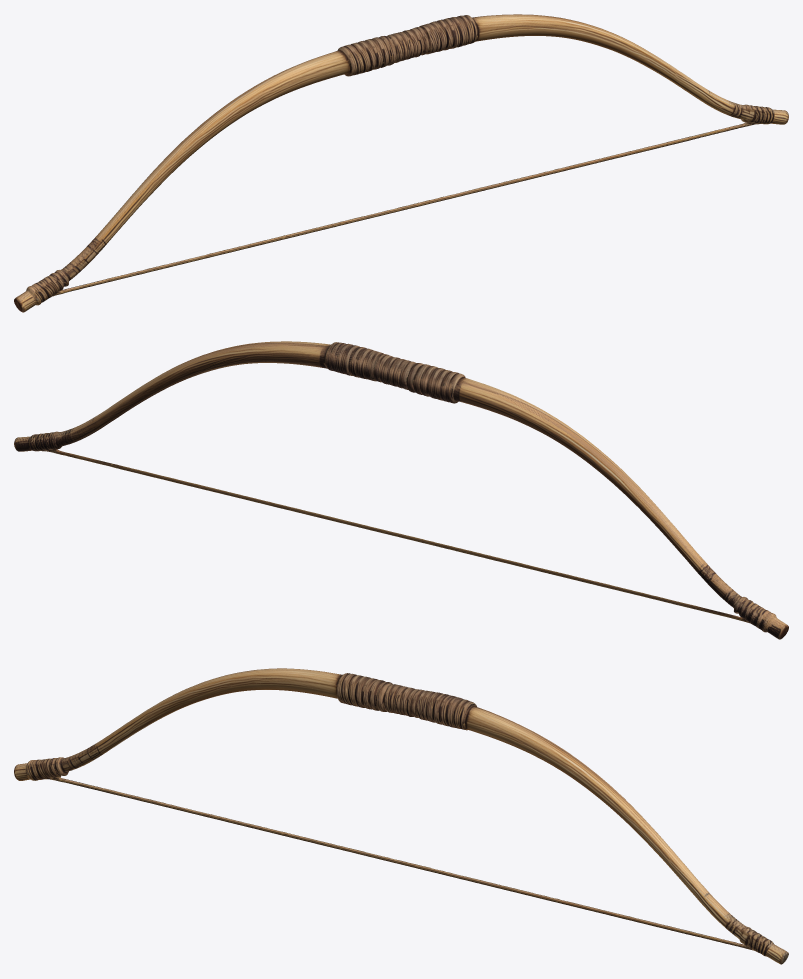
Rendered from Common.glb.
The picture shows the model from 3 angles, top to bottom: view 1: azimuth 30°, elevation 25°; view 2: azimuth 150°, elevation 25°; view 3: azimuth 330°, elevation 25°; orthographic projection.
Parts seen in each view (by area): view 1: Mesh_0; view 2: Mesh_0; view 3: Mesh_0.
Part boxes in pixels (box(x1,y1,x2,y2)): Mesh_0: box(14, 14, 788, 312); Mesh_0: box(14, 341, 788, 639); Mesh_0: box(14, 668, 788, 964).
Bounding box in the file's own units: 1.9 × 0.442 × 0.0673.
Materials: 1 (1 with a texture image).
